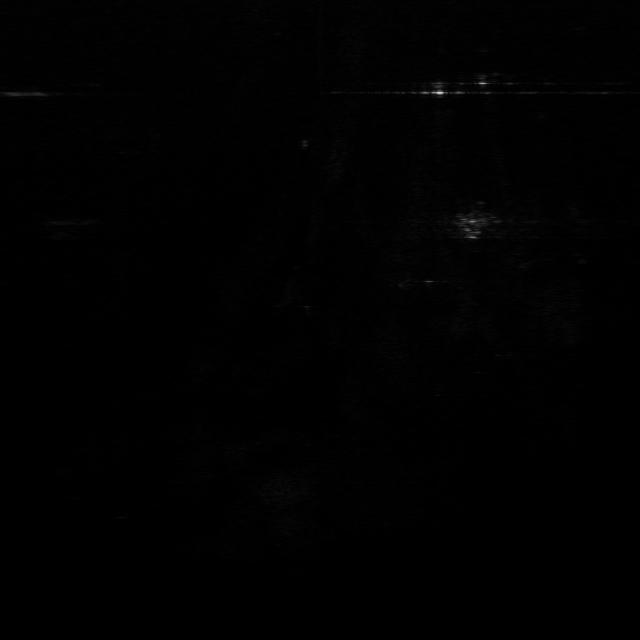rov: (456, 215, 493, 241)
